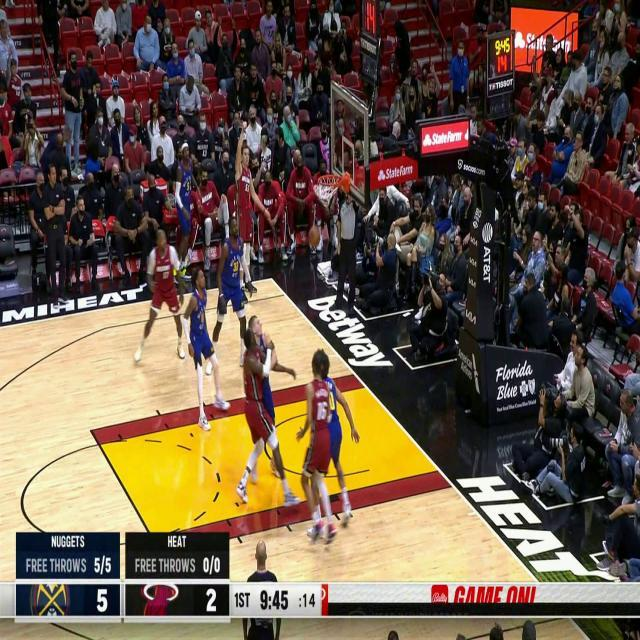rim: (308, 226, 320, 247)
